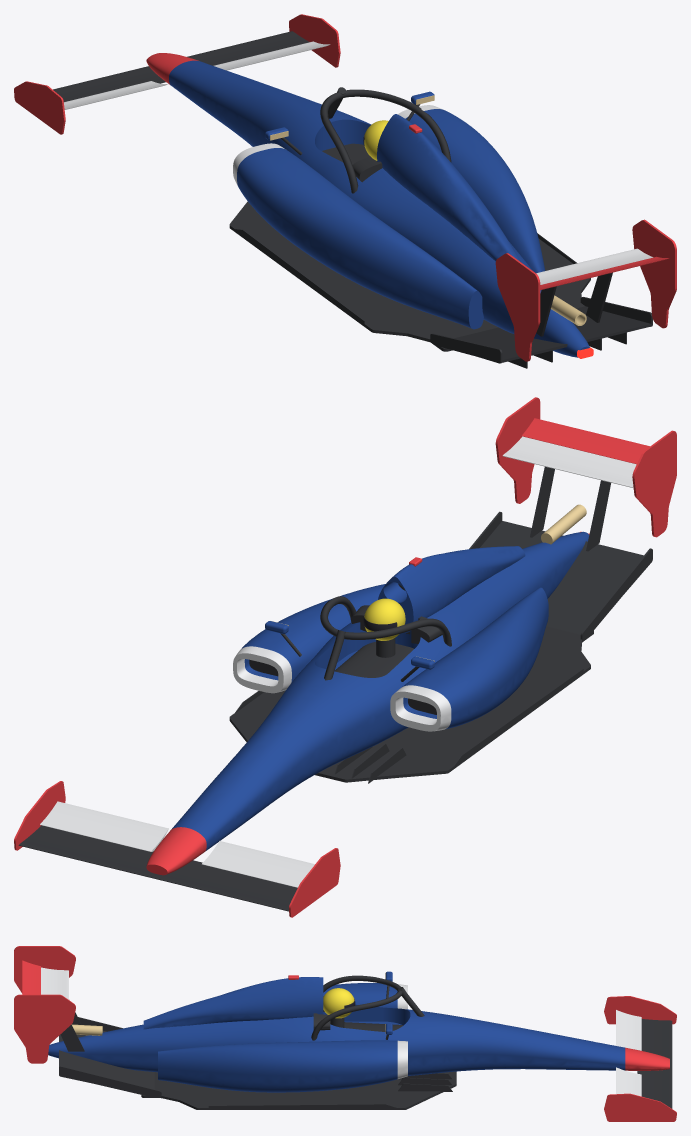
File: body.glb
The picture shows the model from 3 angles, top to bottom: view 1: azimuth 30°, elevation 25°; view 2: azimuth 150°, elevation 25°; view 3: azimuth 270°, elevation 25°; orthographic projection. The views are drawn at different scales.
Parts seen in each view (by area): view 1: Livery, Carbon, Accent, LiveryWhite, Metal, Helmet; view 2: Livery, Carbon, LiveryWhite, Accent, Helmet, Metal; view 3: Livery, Carbon, Accent, LiveryWhite, Helmet, Metal.
Part boxes in pixels (x1,y1,x2,y2): Livery: [169, 60, 589, 357]; Carbon: [53, 31, 652, 368]; Accent: [14, 14, 676, 361]; LiveryWhite: [64, 41, 653, 284]; Metal: [270, 95, 586, 325]; Helmet: [364, 120, 388, 160]; Livery: [171, 531, 589, 850]; Carbon: [18, 466, 652, 911]; LiveryWhite: [40, 436, 636, 887]; Accent: [14, 397, 676, 917]; Helmet: [364, 598, 405, 640]; Metal: [271, 504, 586, 661]; Livery: [48, 971, 625, 1092]; Carbon: [59, 975, 672, 1109]; Accent: [14, 946, 676, 1121]; LiveryWhite: [41, 967, 641, 1096]; Helmet: [323, 988, 354, 1018]; Metal: [71, 972, 385, 1035].
Bounding box in the file's own units: 1.97 × 0.955 × 5.62.
